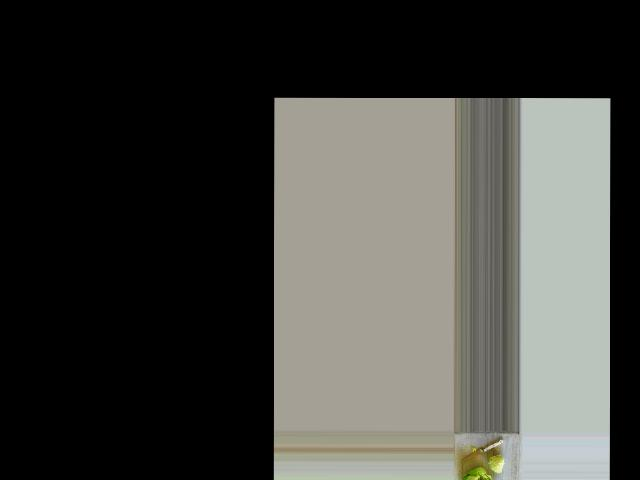lettuce: (458, 471, 498, 480)
